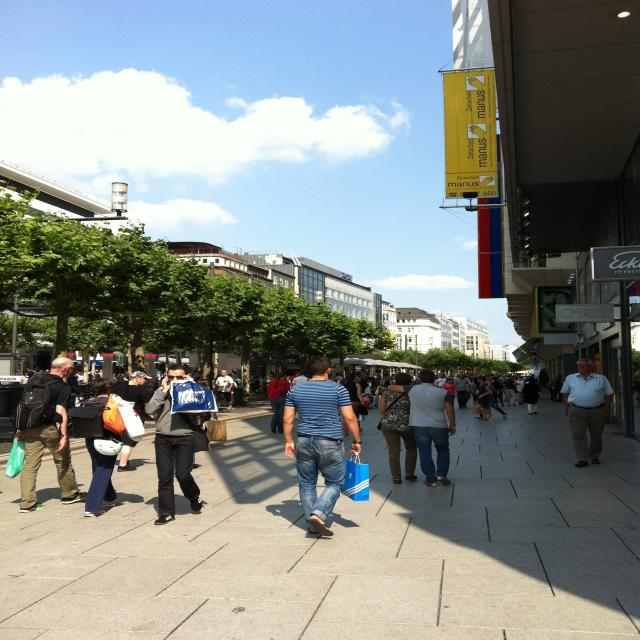body: (282, 355, 363, 537), (3, 356, 89, 514), (8, 451, 210, 518), (143, 364, 219, 526), (63, 376, 147, 519), (386, 369, 457, 488), (557, 358, 616, 468), (375, 372, 423, 485), (263, 493, 363, 541), (108, 370, 153, 472), (409, 372, 541, 394), (340, 372, 370, 437), (473, 373, 508, 419), (266, 370, 290, 434), (197, 378, 218, 435), (340, 372, 398, 387), (474, 376, 493, 421), (520, 377, 542, 415), (216, 370, 234, 410), (452, 373, 472, 409), (502, 374, 520, 407), (262, 370, 291, 390), (374, 373, 396, 396), (66, 367, 84, 395), (442, 378, 458, 408), (360, 377, 375, 404), (492, 376, 505, 407), (29, 363, 49, 382), (69, 369, 104, 379), (12, 367, 50, 376), (373, 374, 383, 408), (292, 368, 310, 386), (553, 374, 564, 403), (484, 376, 494, 406), (516, 375, 526, 405), (546, 377, 558, 402), (27, 365, 41, 383), (470, 377, 480, 402), (358, 374, 370, 394), (19, 370, 34, 385), (248, 376, 260, 394), (213, 374, 223, 394), (436, 374, 447, 388), (463, 374, 471, 392), (112, 375, 130, 383), (93, 369, 101, 385), (362, 393, 371, 407), (290, 371, 300, 383), (501, 376, 507, 396), (334, 372, 343, 385), (248, 375, 254, 394), (352, 372, 362, 383), (193, 371, 201, 383), (157, 371, 162, 386), (159, 370, 166, 380), (433, 376, 439, 387), (117, 372, 124, 381), (88, 370, 94, 380), (78, 372, 84, 382), (522, 375, 528, 385), (532, 374, 538, 384), (186, 371, 194, 378), (236, 376, 242, 382), (232, 370, 238, 376), (99, 370, 103, 378), (227, 373, 233, 378), (216, 369, 220, 374)
